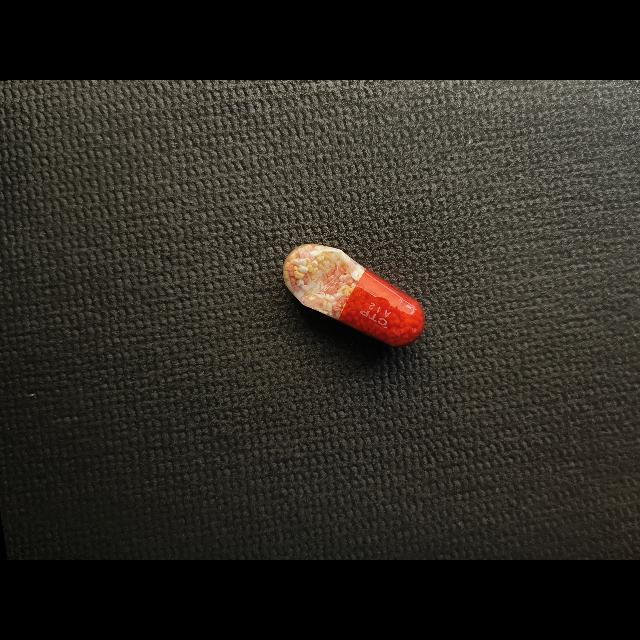Defective Capsule: (283, 244, 425, 347)
